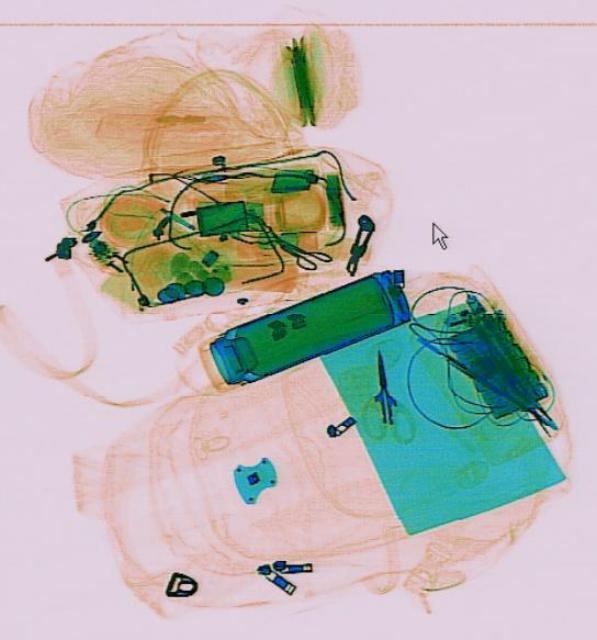Knife: (365, 346, 398, 424)
